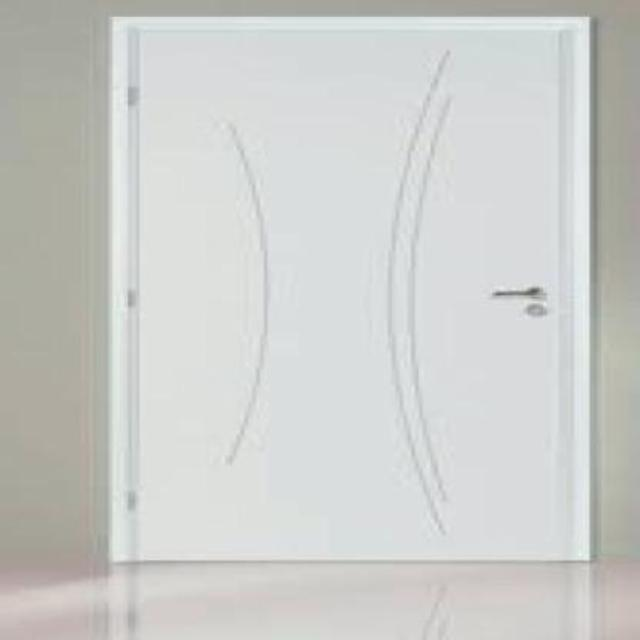door: (111, 15, 594, 564)
